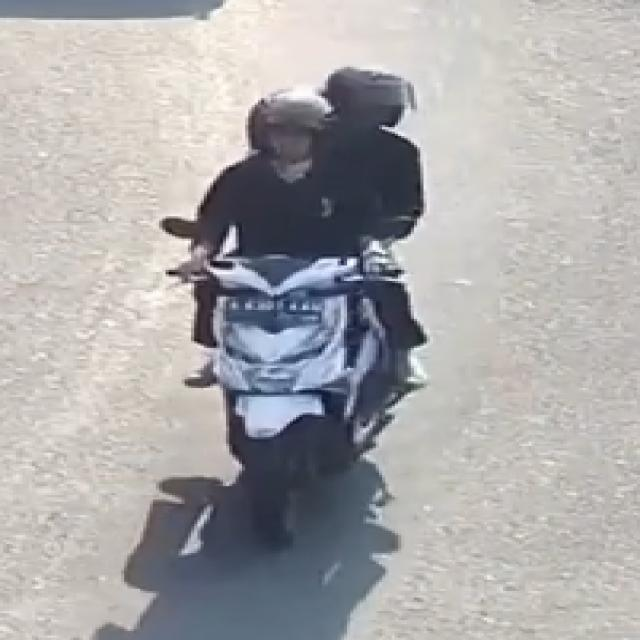helm: (229, 84, 349, 163), (305, 64, 420, 131)
motor: (163, 58, 435, 549)
spion: (320, 211, 420, 268), (158, 197, 223, 273)
